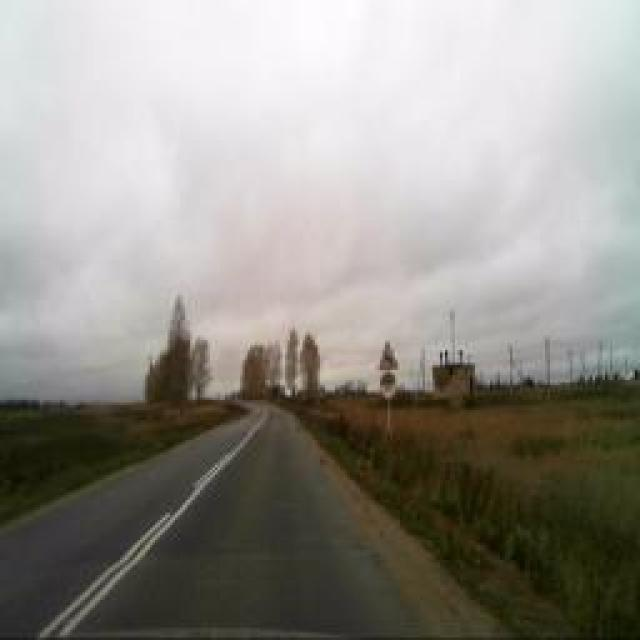sign: (380, 371, 398, 401)
